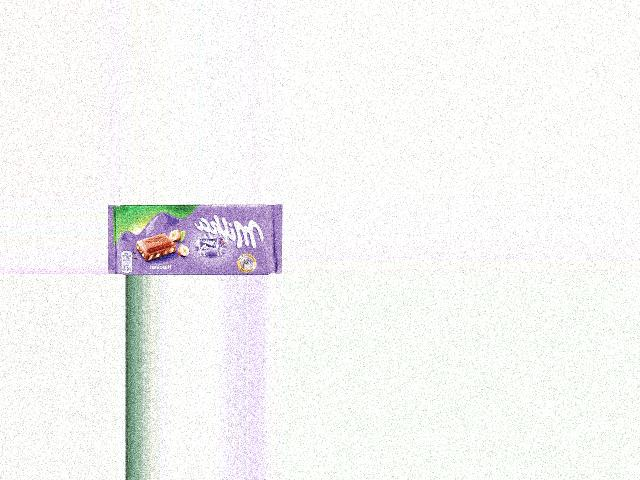chocolate: (107, 204, 282, 275)
